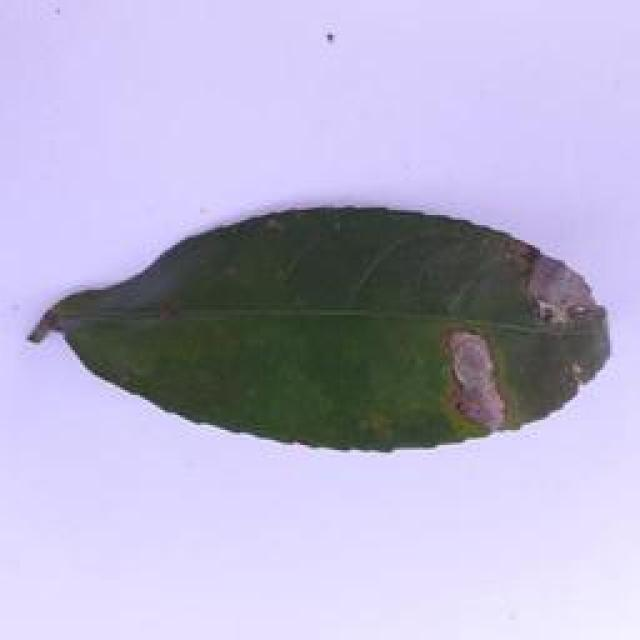Gray Blight: (24, 202, 615, 456)
